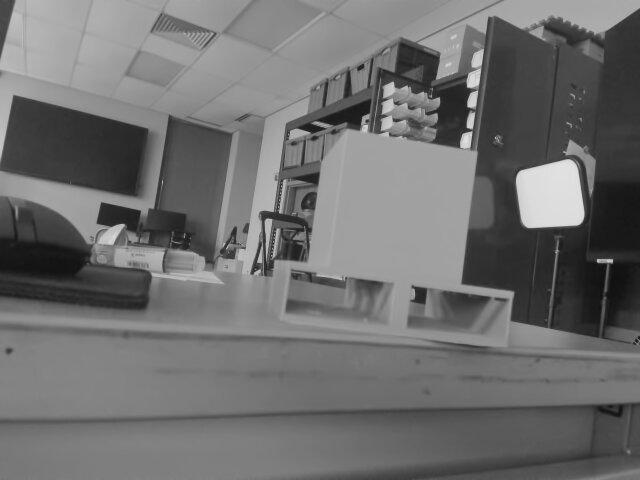grey pallet: (261, 123, 518, 356)
